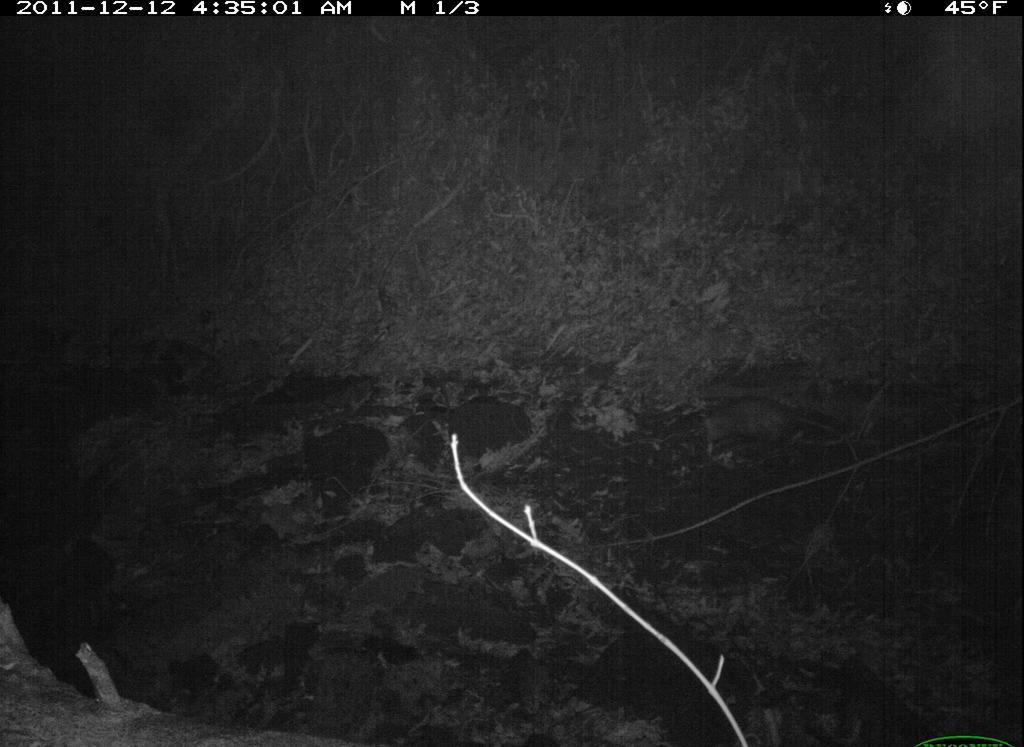opossum: (696, 393, 836, 462)
